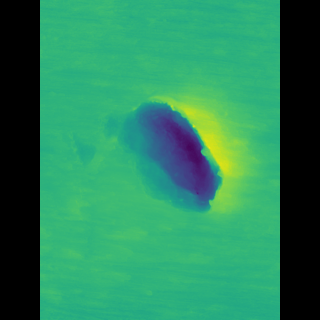Loch: (115, 83, 216, 219)
